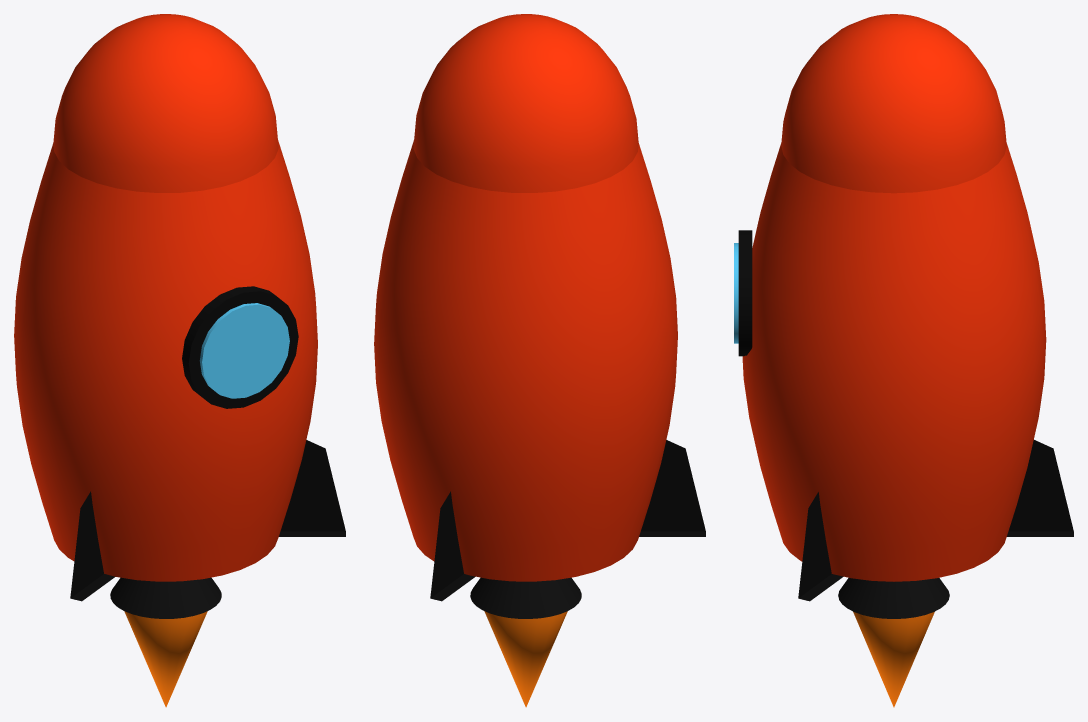
Rendered from Rocket_03_OrangePod.obj.
3 views of the same model, side by side, from view 1: azimuth 30°, elevation 25°; view 2: azimuth 150°, elevation 25°; view 3: azimuth 270°, elevation 25° (orthographic).
Visible parts, largest first — view 1: R03_Body, R03_Nose, R03_Window_1, R03_WindowFrame_1, R03_Fin_3, R03_Nozzle_1, R03_Flame_1, R03_Fin_2; view 2: R03_Body, R03_Nose, R03_Fin_2, R03_Nozzle_1, R03_Flame_1, R03_Fin_1; view 3: R03_Body, R03_Nose, R03_Fin_1, R03_Nozzle_1, R03_Flame_1, R03_Fin_3, R03_WindowFrame_1.
Boxes of the visible parts, bbox=[...] form: R03_Body: bbox=[14, 140, 317, 581]; R03_Nose: bbox=[53, 14, 278, 192]; R03_Window_1: bbox=[199, 303, 289, 398]; R03_WindowFrame_1: bbox=[182, 286, 298, 408]; R03_Fin_3: bbox=[279, 440, 345, 536]; R03_Nozzle_1: bbox=[110, 577, 221, 618]; R03_Flame_1: bbox=[124, 611, 207, 707]; R03_Fin_2: bbox=[70, 491, 115, 601]; R03_Body: bbox=[374, 140, 677, 581]; R03_Nose: bbox=[413, 14, 638, 192]; R03_Fin_2: bbox=[639, 440, 705, 536]; R03_Nozzle_1: bbox=[470, 577, 581, 618]; R03_Flame_1: bbox=[484, 611, 567, 707]; R03_Fin_1: bbox=[430, 491, 475, 601]; R03_Body: bbox=[742, 143, 1046, 581]; R03_Nose: bbox=[781, 14, 1006, 193]; R03_Fin_1: bbox=[1007, 440, 1073, 536]; R03_Nozzle_1: bbox=[838, 578, 949, 618]; R03_Flame_1: bbox=[853, 611, 934, 707]; R03_Fin_3: bbox=[798, 492, 843, 601]; R03_WindowFrame_1: bbox=[738, 230, 752, 356].
Size of the model in its own units: 2.82 by 6.7 by 3.01.
